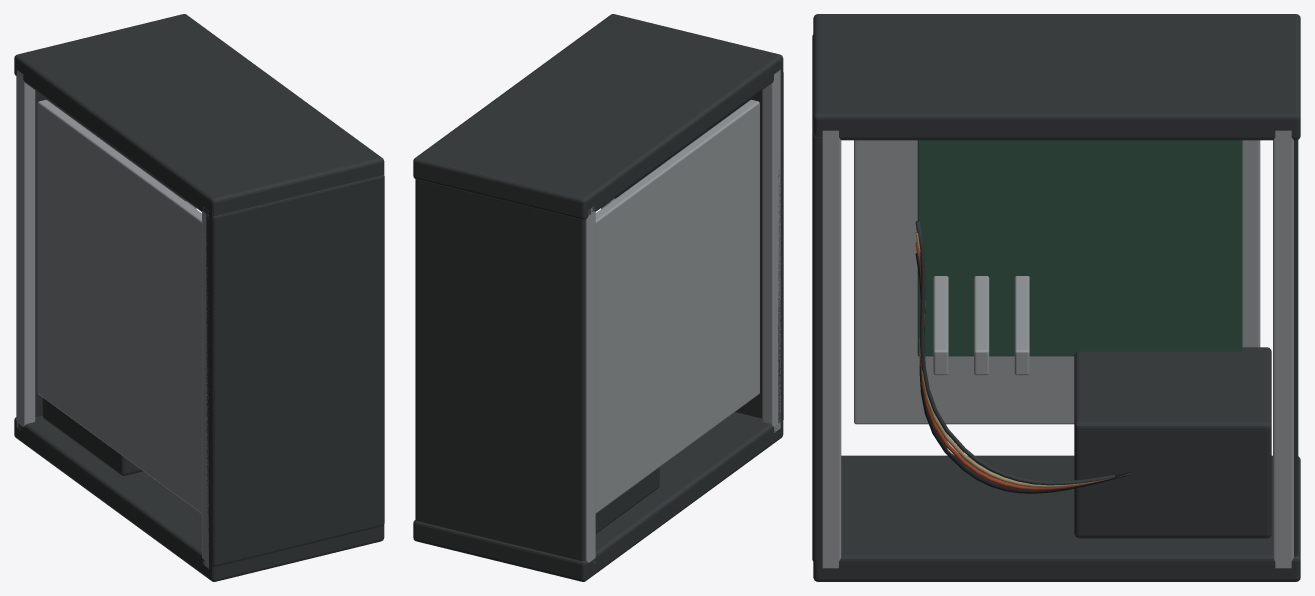
The picture shows the model from 3 angles, left to right: view 1: azimuth 30°, elevation 25°; view 2: azimuth 150°, elevation 25°; view 3: azimuth 270°, elevation 25°; orthographic projection. The views are drawn at different scales.
Visible parts, largest first — view 1: Top bottom chassis, Corner chassis rail; view 2: Top bottom chassis, Corner chassis rail; view 3: Top bottom chassis, Unmarked board, Corner chassis rail, Visible insulated harness 0, Visible insulated harness 2, Visible insulated harness 1.
Part boxes in pixels (x1,y1,x2,y2): Top bottom chassis: (14, 14, 384, 581); Corner chassis rail: (16, 70, 208, 568); Top bottom chassis: (413, 14, 783, 581); Corner chassis rail: (415, 70, 780, 563); Top bottom chassis: (812, 14, 1300, 581); Unmarked board: (917, 140, 1242, 356); Corner chassis rail: (822, 130, 1293, 568); Visible insulated harness 0: (915, 253, 1130, 493); Visible insulated harness 2: (915, 232, 1130, 487); Visible insulated harness 1: (915, 242, 1129, 490).
Size of the model in its own units: 0.21 by 0.4475 by 0.421.
